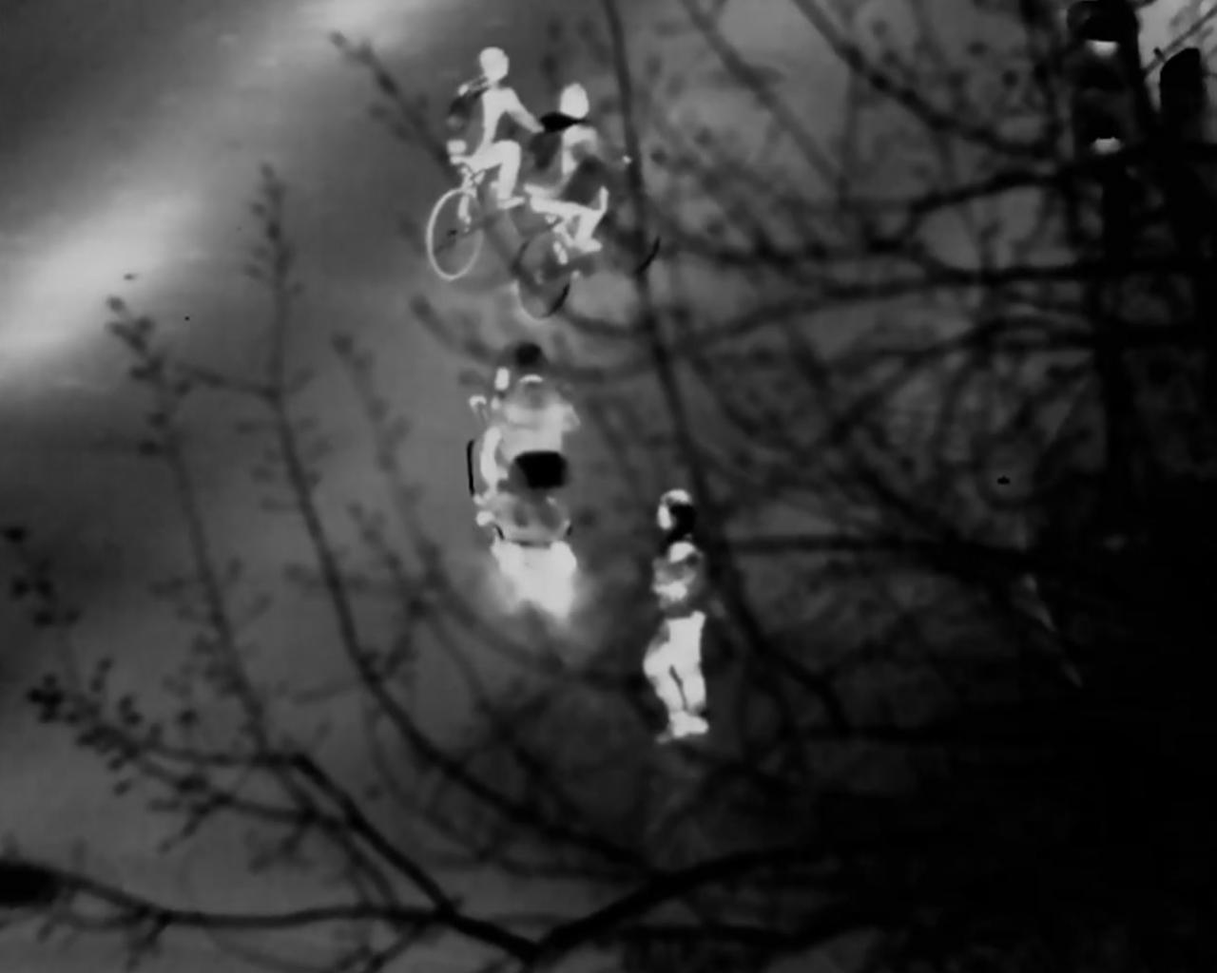person: (638, 485, 724, 730), (478, 332, 583, 509), (529, 80, 628, 260), (444, 37, 542, 200)
